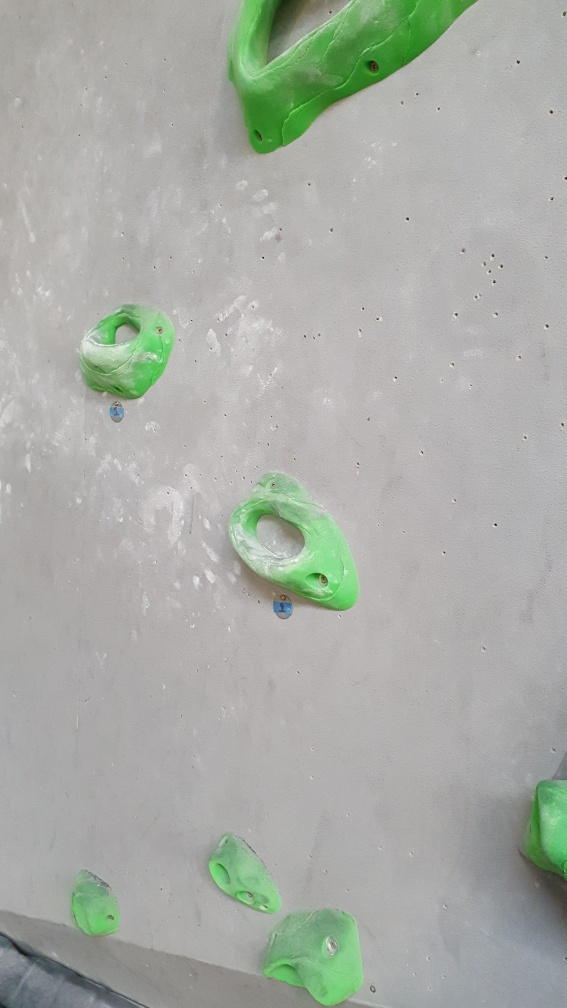Hand Start: (270, 590, 293, 621), (107, 398, 127, 425)
Pocket: (224, 1, 481, 157), (228, 470, 363, 611), (82, 300, 182, 402)
